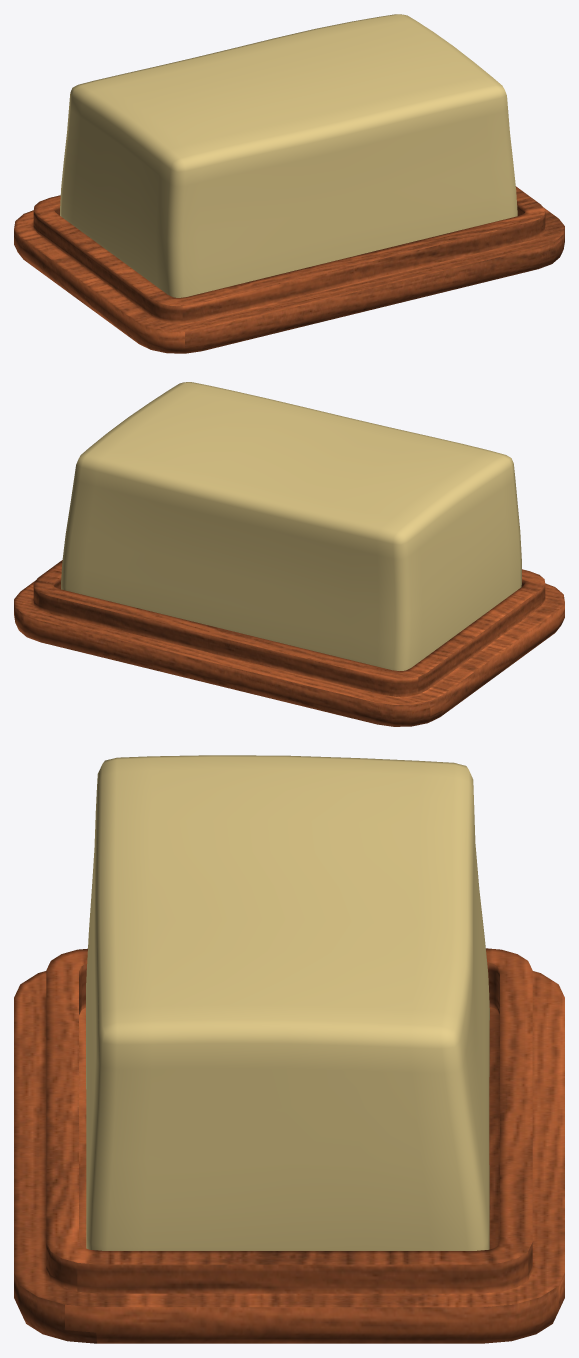
The model's file is butter.fbx.
The picture shows the model from 3 angles, top to bottom: view 1: azimuth 30°, elevation 25°; view 2: azimuth 150°, elevation 25°; view 3: azimuth 270°, elevation 25°; orthographic projection. The views are drawn at different scales.
Visible parts, largest first — view 1: Cube, Cube.001; view 2: Cube, Cube.001; view 3: Cube, Cube.001.
Boxes of the visible parts, x1=… form: Cube: x1=60, y1=14, x2=517, y2=297; Cube.001: x1=14, y1=186, x2=564, y2=353; Cube: x1=61, y1=382, x2=521, y2=670; Cube.001: x1=14, y1=560, x2=564, y2=726; Cube: x1=86, y1=755, x2=489, y2=1250; Cube.001: x1=14, y1=948, x2=564, y2=1343.
Bounding box in the file's own units: 24.73 × 9.88 × 16.73.
2 materials, 1 textured.
